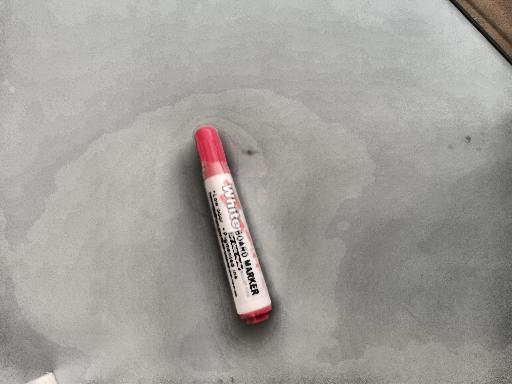marcador rojo: (194, 127, 272, 324)
